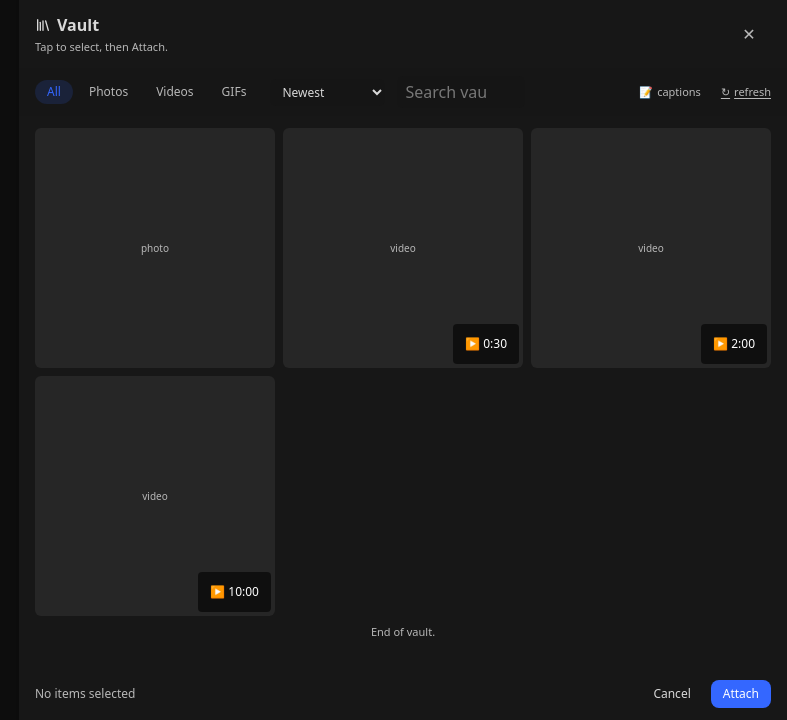
Test case: VaultPicker range select and keyboard › Shift+arrow extends the range from the anchor
Click the button titled "Click to select · double-click to attach" at (403, 248), box x1=283 y1=128 x2=523 y2=368
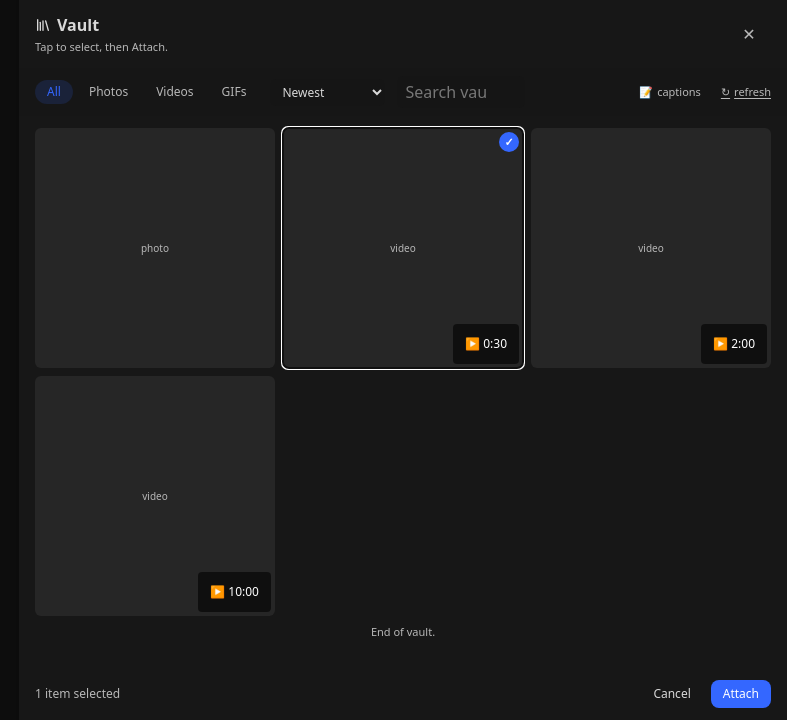
Type keys "{Shift>}{ArrowRight}{ArrowRight}{/Shift}"
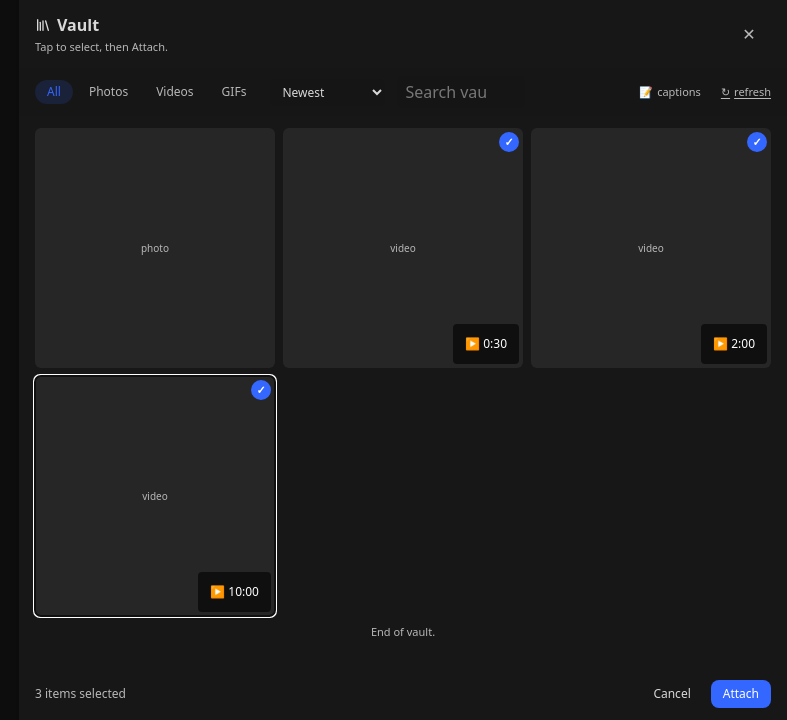
Now the text "3 items selected" is shown, box x1=35 y1=686 x2=126 y2=702
